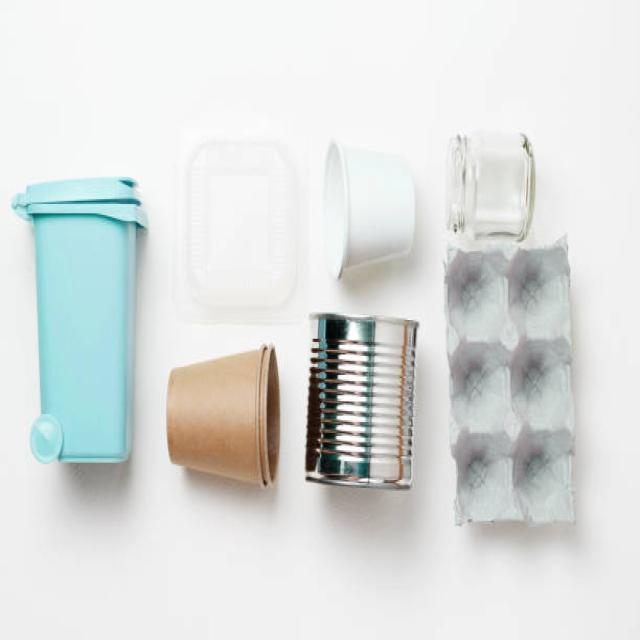cardboard: (440, 247, 585, 528)
glass: (435, 125, 540, 237)
metal: (330, 304, 422, 502)
plastic: (184, 124, 315, 326)
